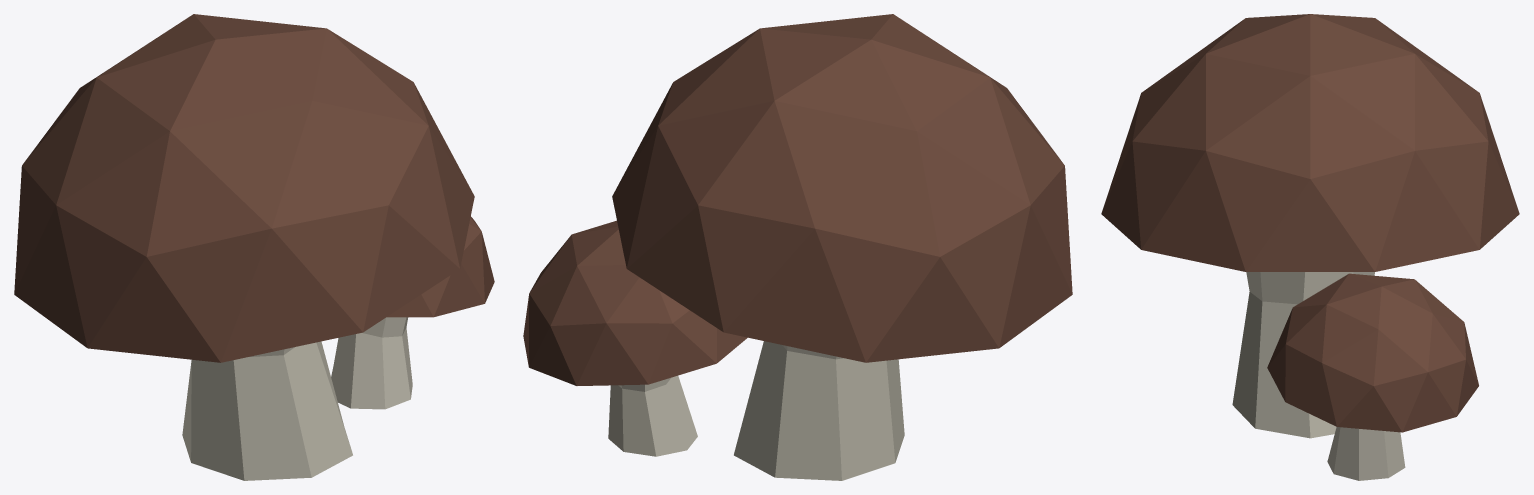
The model's file is Mushroom_01.fbx.
The picture shows the model from 3 angles, left to right: view 1: azimuth 30°, elevation 25°; view 2: azimuth 150°, elevation 25°; view 3: azimuth 270°, elevation 25°; orthographic projection. The views are drawn at different scales.
Parts seen in each view (by area): view 1: Icosphere.030, Cylinder.017, Cylinder.018, Icosphere.031; view 2: Icosphere.030, Icosphere.031, Cylinder.017, Cylinder.018; view 3: Icosphere.030, Icosphere.031, Cylinder.017, Cylinder.018.
Boxes of the visible parts, x1=… form: Icosphere.030: x1=14, y1=14, x2=474, y2=362; Cylinder.017: x1=182, y1=341, x2=352, y2=480; Cylinder.018: x1=331, y1=317, x2=412, y2=409; Icosphere.031: x1=387, y1=216, x2=494, y2=317; Icosphere.030: x1=612, y1=14, x2=1072, y2=362; Icosphere.031: x1=523, y1=220, x2=747, y2=385; Cylinder.017: x1=734, y1=341, x2=904, y2=480; Cylinder.018: x1=608, y1=375, x2=697, y2=456; Icosphere.030: x1=1101, y1=14, x2=1519, y2=271; Icosphere.031: x1=1267, y1=273, x2=1478, y2=432; Cylinder.017: x1=1232, y1=272, x2=1374, y2=438; Cylinder.018: x1=1327, y1=427, x2=1405, y2=480.
Bounding box in the file's own units: 37.59 × 32.81 × 33.57.
